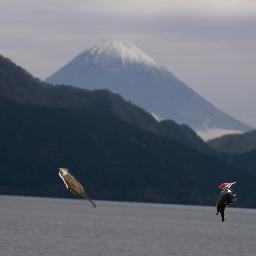Cuckoo: (58, 168, 96, 208)
Woodpecker: (216, 182, 237, 222)
